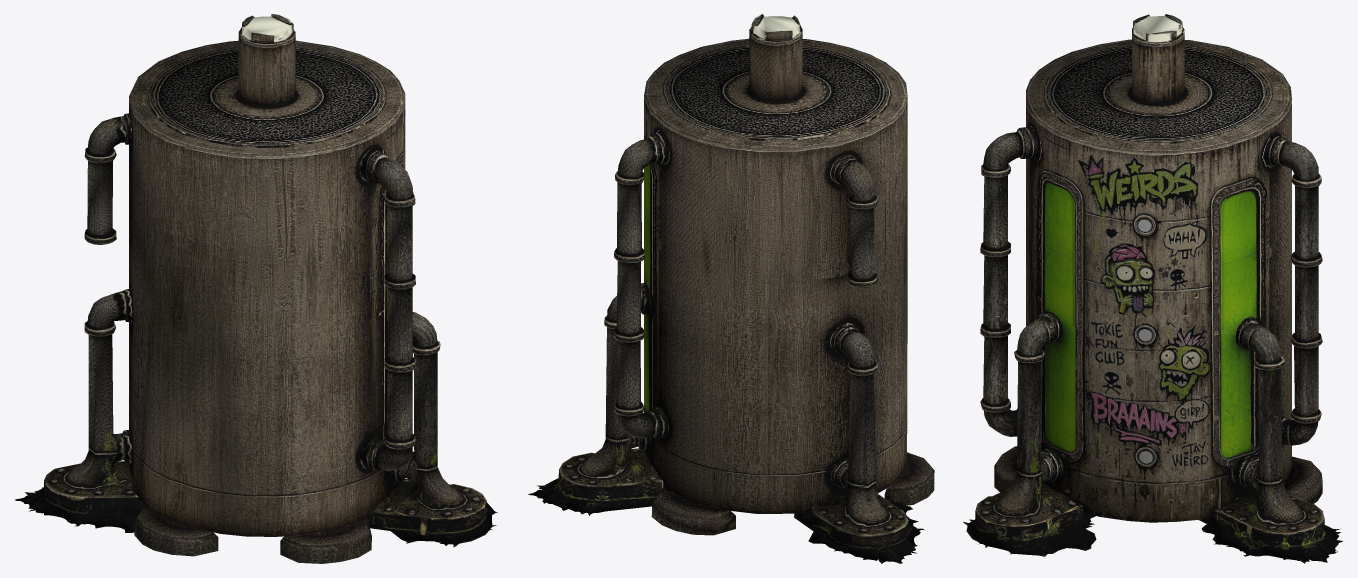
File: toxic_waste_tank_1.glb
3 renders of one model, left to right at view 1: azimuth 30°, elevation 25°; view 2: azimuth 150°, elevation 25°; view 3: azimuth 270°, elevation 25°, orthographic. The views are drawn at different scales.
Visible parts, largest first — view 1: tripo_node_5435fc6f-825d-4a34-b44c-b25b22d2840e; view 2: tripo_node_5435fc6f-825d-4a34-b44c-b25b22d2840e; view 3: tripo_node_5435fc6f-825d-4a34-b44c-b25b22d2840e.
Part boxes in pixels (x1=…): tripo_node_5435fc6f-825d-4a34-b44c-b25b22d2840e: x1=15, y1=14, x2=497, y2=563; tripo_node_5435fc6f-825d-4a34-b44c-b25b22d2840e: x1=528, y1=14, x2=934, y2=563; tripo_node_5435fc6f-825d-4a34-b44c-b25b22d2840e: x1=963, y1=14, x2=1342, y2=563.
Bounding box in the file's own units: 0.8145 × 0.998 × 0.748.
Materials: 1 (1 with a texture image).
